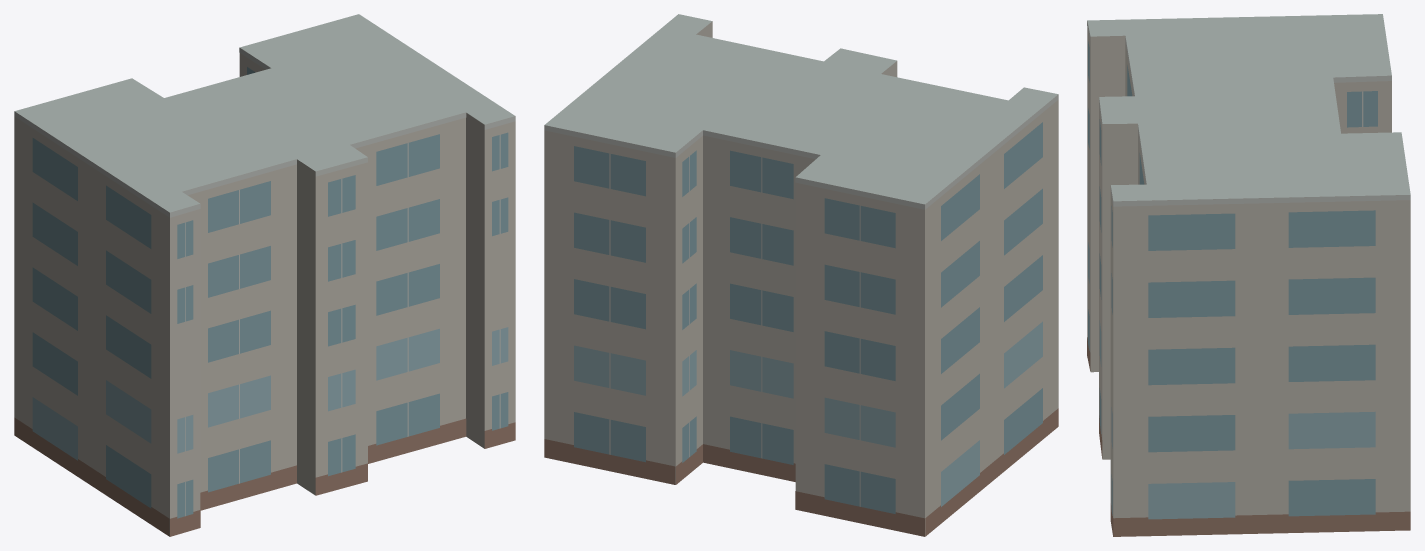
Rendered from survey-upis-32744335.glb.
3 renders of one model, left to right at view 1: azimuth 30°, elevation 25°; view 2: azimuth 150°, elevation 25°; view 3: azimuth 270°, elevation 25°, orthographic. The views are drawn at different scales.
Parts seen in each view (by area): view 1: survey-upis-32744335.tmp; view 2: survey-upis-32744335.tmp; view 3: survey-upis-32744335.tmp.
Boxes of the visible parts, x1,y1,x2,y2 form: survey-upis-32744335.tmp: (14,14,515,536); survey-upis-32744335.tmp: (544,14,1058,536); survey-upis-32744335.tmp: (1087,14,1410,536).
Bounding box in the file's own units: 18.26 × 15.25 × 13.33.
